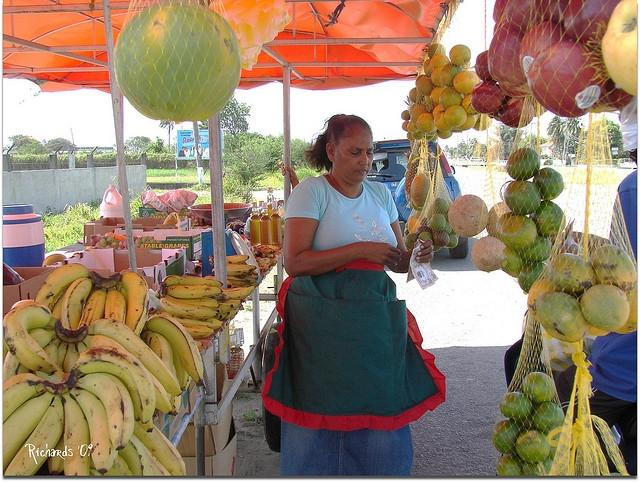apple: (528, 40, 610, 118), (601, 1, 637, 96), (520, 21, 574, 80), (488, 22, 528, 90), (564, 0, 622, 43), (506, 0, 546, 35), (470, 81, 508, 114), (598, 79, 634, 109), (534, 0, 570, 25), (474, 50, 498, 84), (498, 97, 524, 128), (454, 70, 482, 94), (439, 86, 464, 111), (444, 104, 467, 128), (416, 113, 436, 133), (492, 0, 508, 24), (411, 106, 428, 126), (430, 53, 450, 69), (458, 114, 476, 130), (431, 66, 444, 86)
banana: (84, 318, 183, 397), (76, 345, 156, 422), (4, 383, 64, 476), (66, 372, 134, 451), (4, 384, 58, 470), (140, 314, 204, 386), (69, 387, 119, 473), (2, 302, 58, 376), (133, 420, 187, 476), (2, 328, 56, 384), (35, 264, 92, 312), (62, 388, 90, 476), (2, 372, 46, 424), (120, 270, 150, 338), (61, 277, 95, 331), (153, 308, 224, 330), (149, 371, 178, 416), (76, 287, 106, 330), (160, 297, 218, 319), (76, 328, 129, 352), (146, 332, 173, 373), (170, 342, 192, 392), (46, 287, 70, 332), (129, 434, 153, 475), (90, 454, 133, 476), (165, 294, 220, 309), (160, 275, 223, 288), (166, 284, 224, 298), (105, 286, 126, 324), (210, 263, 257, 276), (180, 324, 215, 340), (42, 338, 62, 366), (220, 285, 256, 300), (64, 342, 80, 374), (208, 254, 250, 264), (58, 341, 69, 372), (74, 334, 88, 354), (212, 302, 234, 314), (232, 282, 260, 288), (258, 264, 271, 272)
